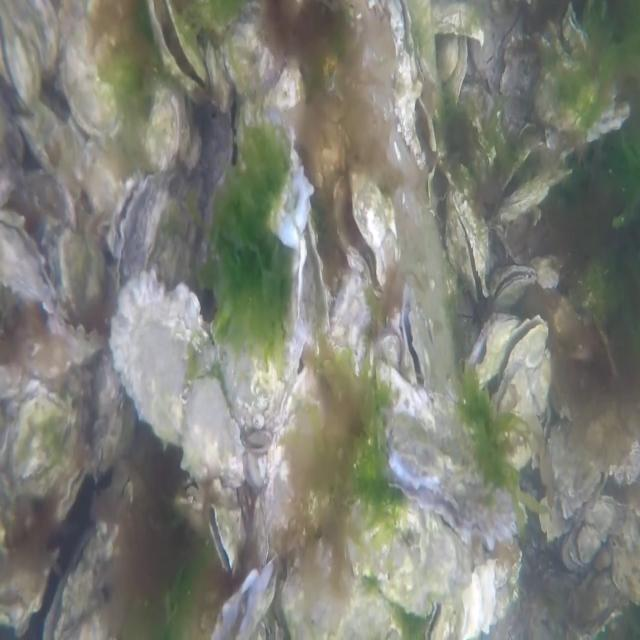Oyster-Closed: (60, 6, 128, 136), (498, 165, 570, 222), (54, 453, 100, 537), (50, 310, 104, 360), (408, 0, 438, 84), (379, 332, 402, 367)
Oyster-Indeterminate: (111, 277, 246, 487), (347, 505, 474, 619), (262, 366, 326, 534), (1, 385, 82, 492), (21, 103, 89, 205), (55, 225, 113, 325), (328, 273, 370, 385), (142, 91, 185, 178)
Oyster-Open: (221, 5, 315, 254), (384, 410, 518, 554), (42, 524, 123, 640), (334, 163, 396, 302), (387, 0, 437, 169), (0, 211, 67, 322), (144, 0, 214, 105), (544, 416, 608, 518), (490, 317, 549, 427), (210, 551, 281, 640), (0, 0, 56, 111), (443, 194, 491, 306), (294, 224, 330, 363), (108, 170, 154, 274), (465, 313, 519, 383), (401, 291, 434, 396), (206, 506, 242, 576), (491, 266, 534, 308)
